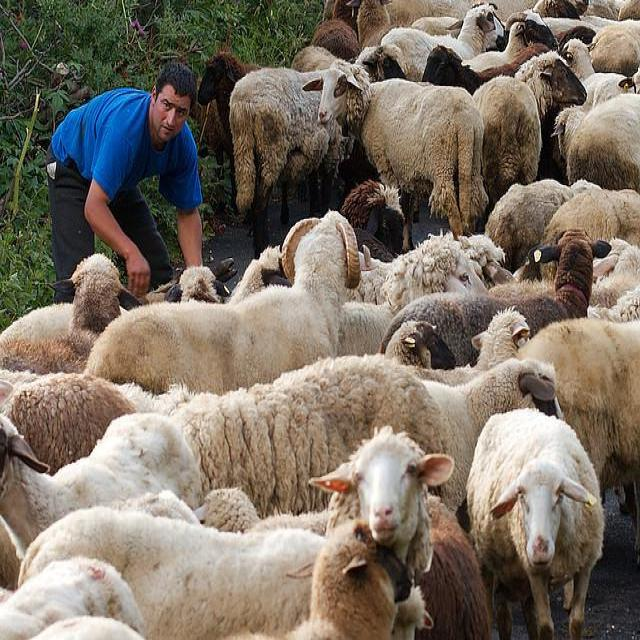Sheep: (0, 0, 639, 639), (18, 428, 456, 634), (165, 357, 565, 519), (85, 211, 365, 396), (357, 58, 587, 260), (515, 313, 639, 573), (2, 411, 219, 555), (467, 412, 604, 633), (230, 63, 371, 260), (6, 373, 184, 468), (486, 178, 577, 274), (538, 178, 621, 283), (567, 93, 639, 194), (222, 245, 293, 306)
